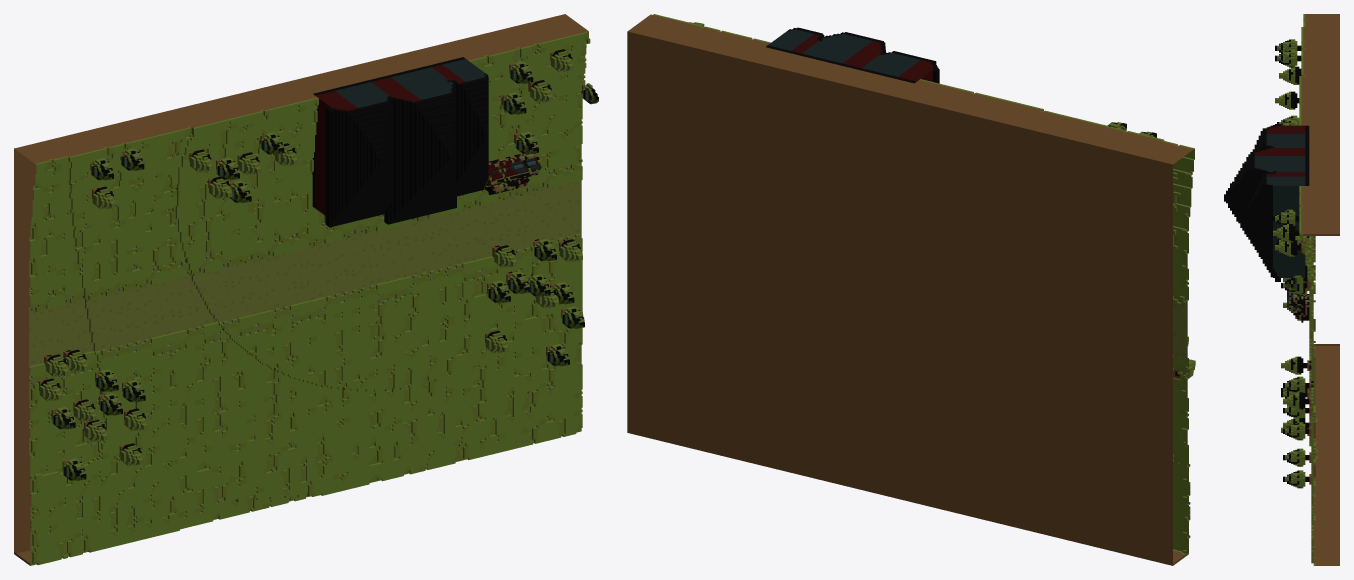
3 views of the same model, side by side, from view 1: azimuth 30°, elevation 25°; view 2: azimuth 150°, elevation 25°; view 3: azimuth 270°, elevation 25° (orthographic). The views are drawn at different scales.
Size of the model in its own units: 25.6 by 18 by 5.7.
